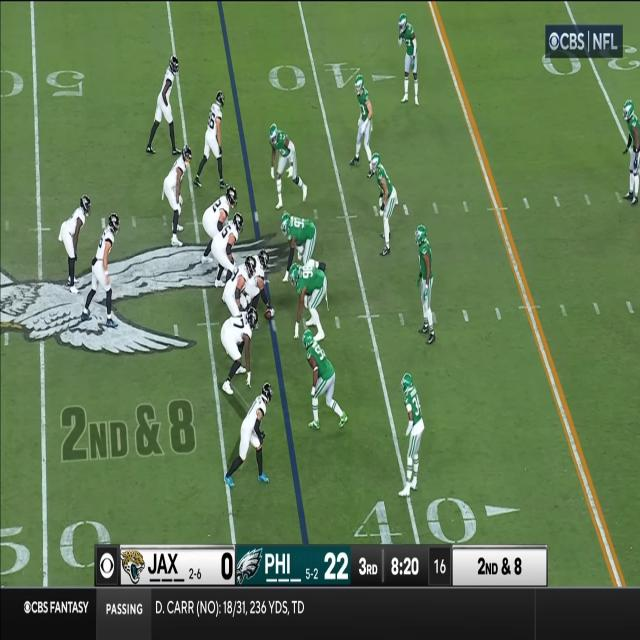Player: (302, 329, 346, 426), (236, 382, 272, 482), (58, 193, 89, 292), (160, 145, 190, 247), (220, 308, 258, 388), (93, 215, 119, 328), (269, 123, 303, 204), (151, 55, 177, 156), (400, 374, 422, 493), (416, 223, 436, 346), (291, 264, 326, 334), (371, 153, 395, 255), (200, 92, 224, 189), (211, 213, 242, 278), (281, 212, 318, 262), (223, 255, 254, 313), (399, 15, 418, 107), (623, 98, 640, 200), (353, 76, 371, 170), (203, 187, 236, 232), (256, 249, 270, 306)
